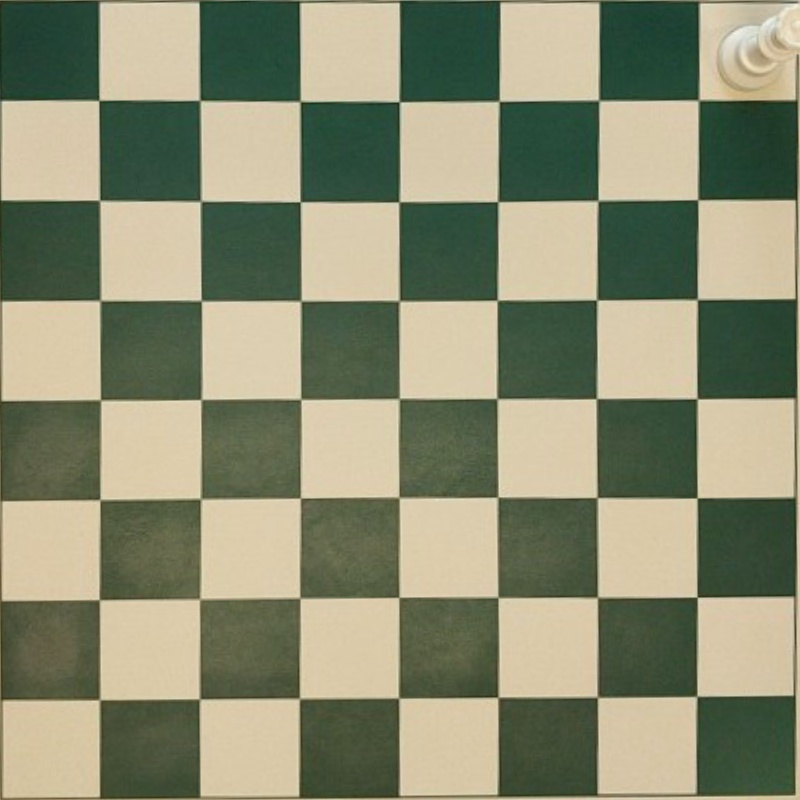white-queen: (720, 6, 799, 90)
